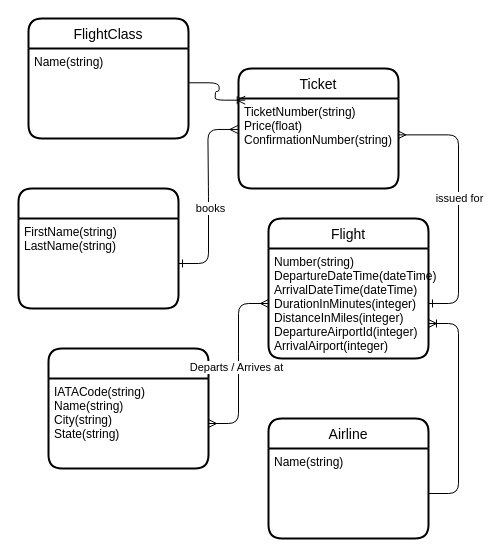
This 500x556 diagram has some shape labels left out. Each missing label, with the box of its shape:
Airport: (47, 347, 209, 469)
Passenger: (17, 187, 179, 309)
